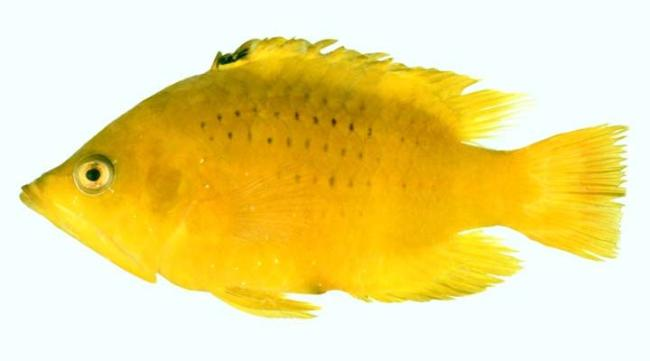fish: (20, 38, 630, 318)
